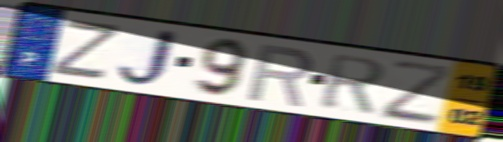9: (192, 36, 251, 99)
J: (113, 26, 182, 90)
R: (244, 41, 317, 109), (317, 52, 390, 116)
Z: (380, 59, 455, 128), (46, 18, 125, 83)
